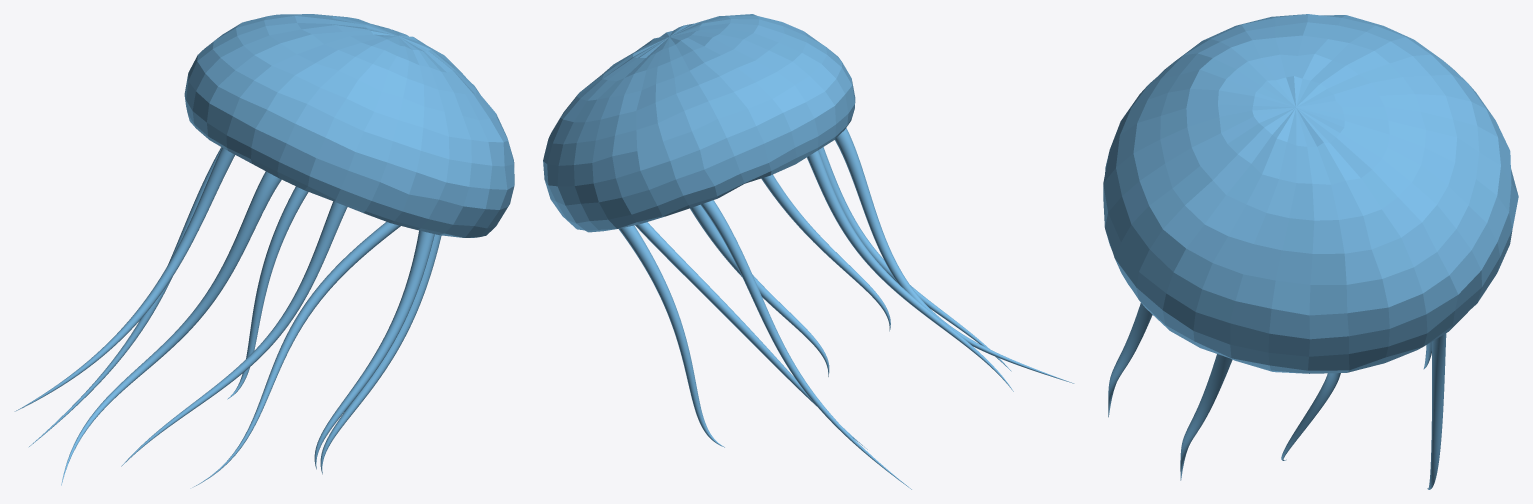
The model's file is Jellyfish.fbx.
The picture shows the model from 3 angles, left to right: view 1: azimuth 30°, elevation 25°; view 2: azimuth 150°, elevation 25°; view 3: azimuth 270°, elevation 25°; orthographic projection. The views are drawn at different scales.
Visible parts, largest first — view 1: Jellyfish; view 2: Jellyfish; view 3: Jellyfish.
Boxes of the visible parts, box(x1,y1,x2,y2) form: Jellyfish: box(14, 14, 514, 488); Jellyfish: box(543, 14, 1074, 489); Jellyfish: box(1103, 14, 1518, 489).
Size of the model in its own units: 322 by 265 by 200.
